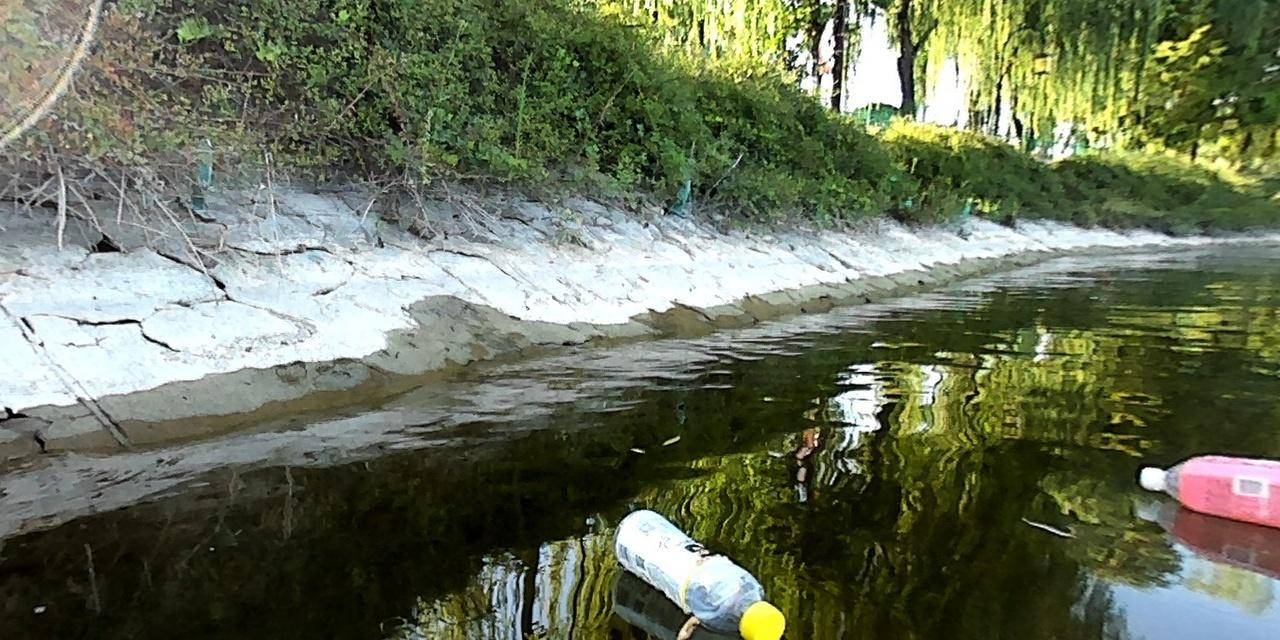bottle: (608, 503, 798, 639), (1130, 445, 1279, 534)
